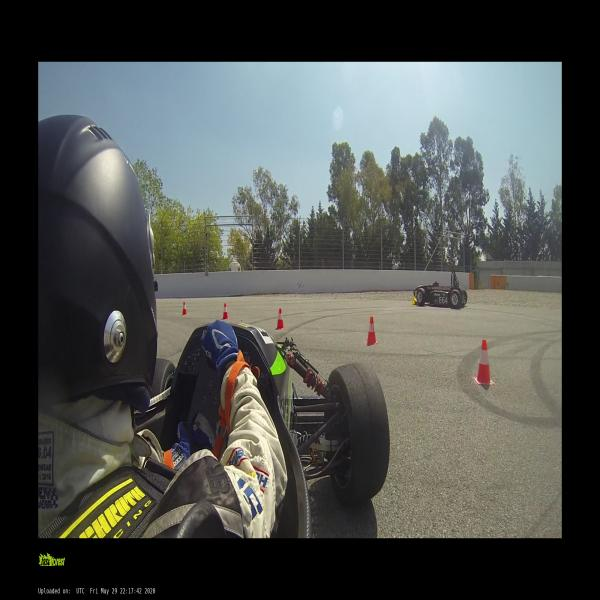orange_cone: (474, 338, 494, 386), (364, 317, 378, 346), (275, 308, 285, 329), (221, 303, 229, 320), (180, 302, 188, 316)
yellow_cone: (411, 296, 419, 306)
